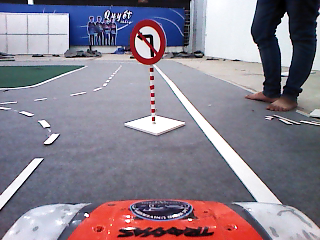ban: (129, 19, 167, 66)
